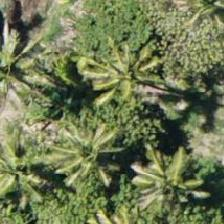coconut_tree: (109, 125, 199, 215), (42, 103, 132, 193)
